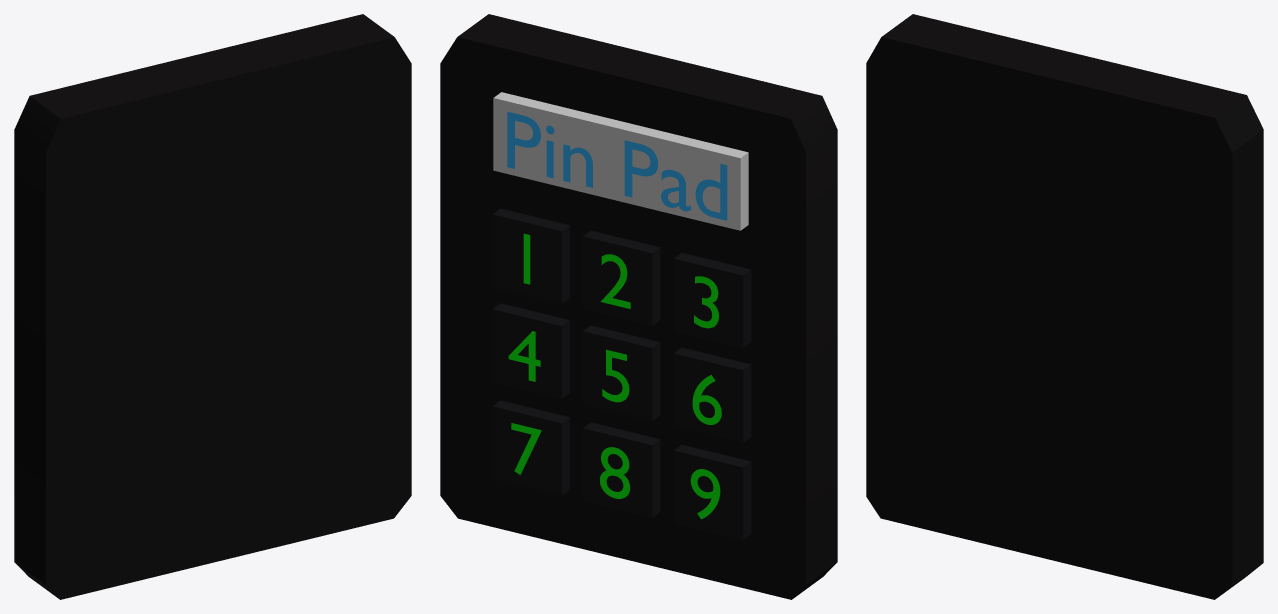
Rendered from pinPad.obj.
3 views of the same model, side by side, from view 1: azimuth 30°, elevation 25°; view 2: azimuth 150°, elevation 25°; view 3: azimuth 330°, elevation 25° (orthographic).
Visible parts, largest first — view 1: PinPad; view 2: PinPad, Buttons, Screen, ScreenText, 8, 9, 6, 4, 2, 5, 3, 7; view 3: PinPad.
Part boxes in pixels (bbox=[...]): PinPad: bbox=[14, 14, 411, 599]; PinPad: bbox=[440, 14, 837, 599]; Buttons: bbox=[492, 208, 751, 539]; Screen: bbox=[493, 92, 748, 230]; ScreenText: bbox=[507, 111, 727, 220]; 8: bbox=[600, 447, 629, 498]; 9: bbox=[690, 469, 720, 519]; 6: bbox=[692, 375, 721, 424]; 4: bbox=[508, 331, 540, 381]; 2: bbox=[600, 254, 630, 308]; 5: bbox=[602, 349, 629, 402]; 3: bbox=[694, 276, 718, 328]; 7: bbox=[511, 423, 541, 475]; PinPad: bbox=[866, 14, 1263, 599].
Size of the model in its own units: 1.63 by 2.05 by 0.3083.
